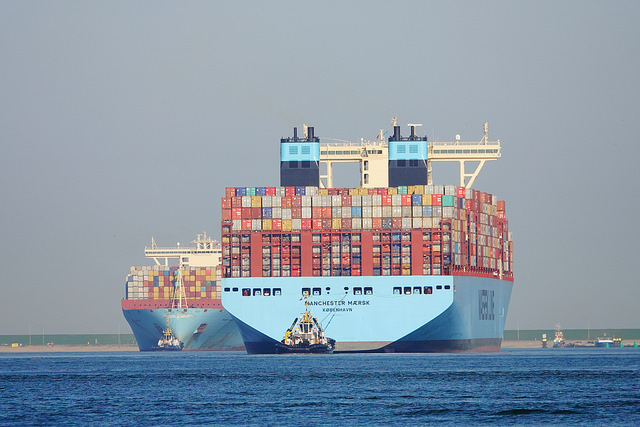container_ship: (221, 122, 516, 352), (121, 231, 223, 353)
tug_boat: (273, 296, 338, 351), (150, 318, 187, 355)
